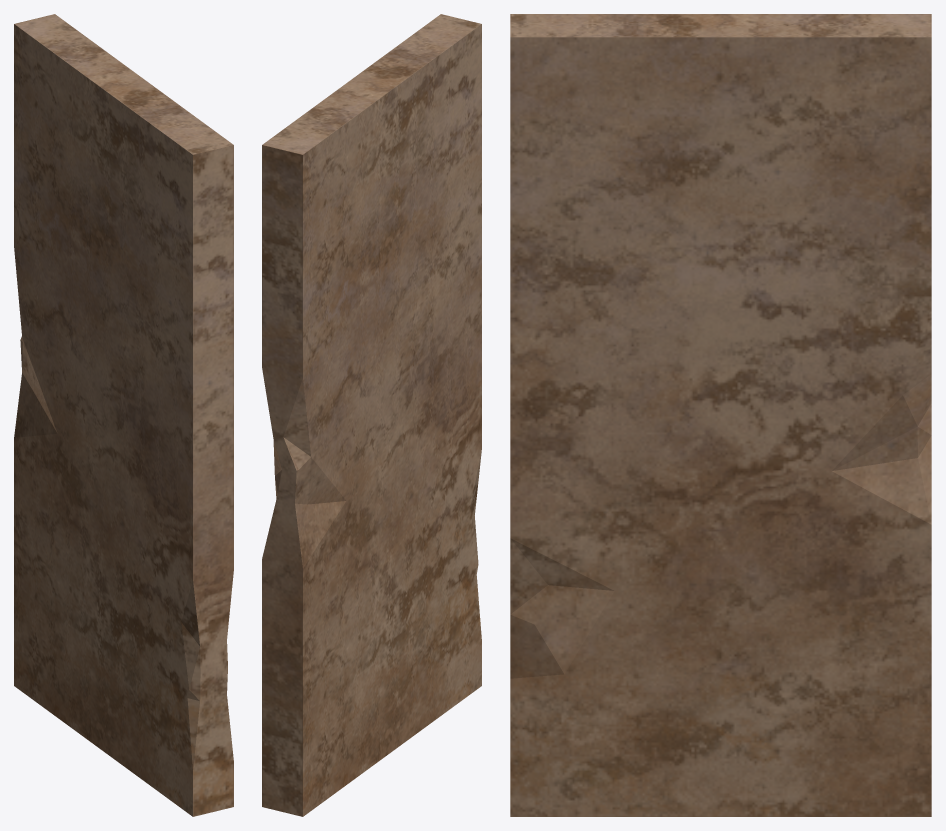
The model's file is Temple Door3.fbx.
3 views of the same model, side by side, from view 1: azimuth 30°, elevation 25°; view 2: azimuth 150°, elevation 25°; view 3: azimuth 270°, elevation 25° (orthographic). The views are drawn at different scales.
Visible parts, largest first — view 1: Porta 1.002; view 2: Porta 1.002; view 3: Porta 1.002.
Part boxes in pixels (left/top/right/bottom): Porta 1.002: left=14, top=14, right=233, bottom=816; Porta 1.002: left=262, top=14, right=481, bottom=816; Porta 1.002: left=510, top=14, right=931, bottom=816.
Bounding box in the file's own units: 40.71 × 627 × 307.
Materials: 1 (1 with a texture image).
